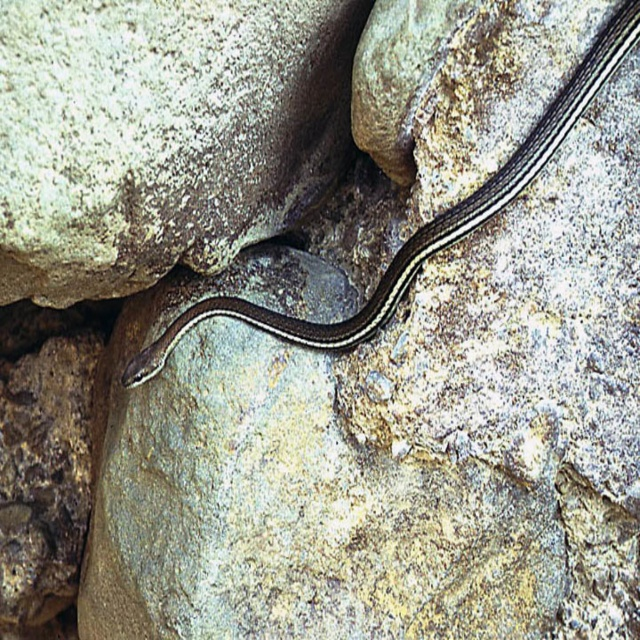Snake: (122, 0, 639, 390)
